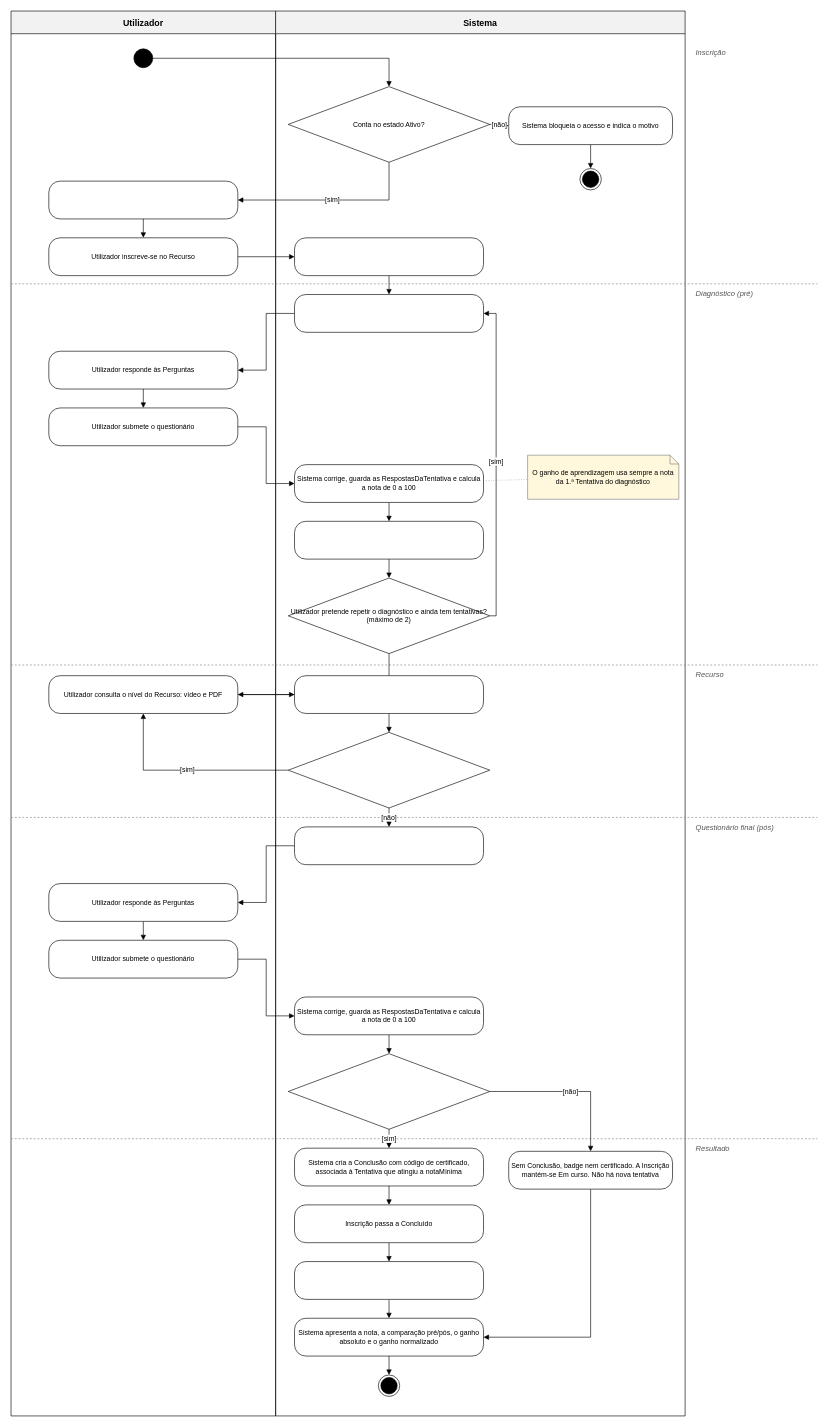
The diagram is 829 pixels wide and 1427 high, and some of its shapes have lost their labels. The centre of each missing label's shape, as x and y in pixels:
Há mais níveis por consultar?: point 389,770
Inscrição passa a Em curso: point 389,540
Nota ≥ notaMínima do Questionário? (85 por omissão): point 389,1091
Sistema atribui o badge do Recurso e disponibiliza o certificado: point 389,1280
Sistema cria a Inscrição no estado Inscrito: point 389,256
Sistema cria a Tentativa do diagnóstico: point 389,313
Sistema cria a Tentativa do questionário final: point 389,845
Sistema regista o progresso do nível: point 389,694
Utilizador escolhe um Recurso publicado: point 143,199
